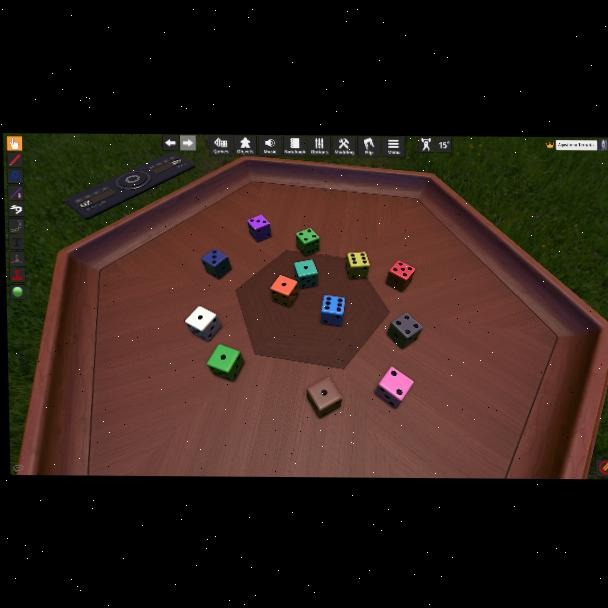d6: (374, 366, 414, 409), (307, 377, 343, 418), (185, 305, 222, 342), (387, 312, 423, 350), (207, 344, 243, 381), (271, 274, 300, 308), (200, 249, 231, 280), (386, 260, 416, 292), (320, 295, 344, 326), (293, 260, 317, 289), (345, 252, 369, 280), (247, 215, 271, 243), (295, 229, 318, 256)
